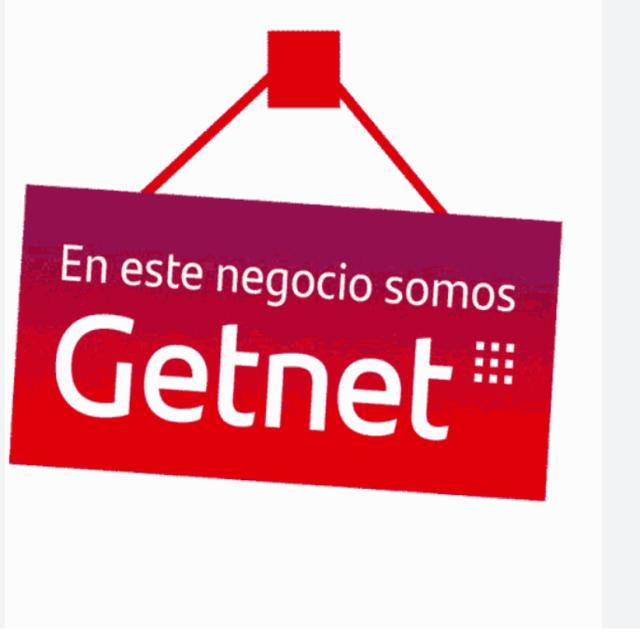getnet: (55, 313, 515, 442)
